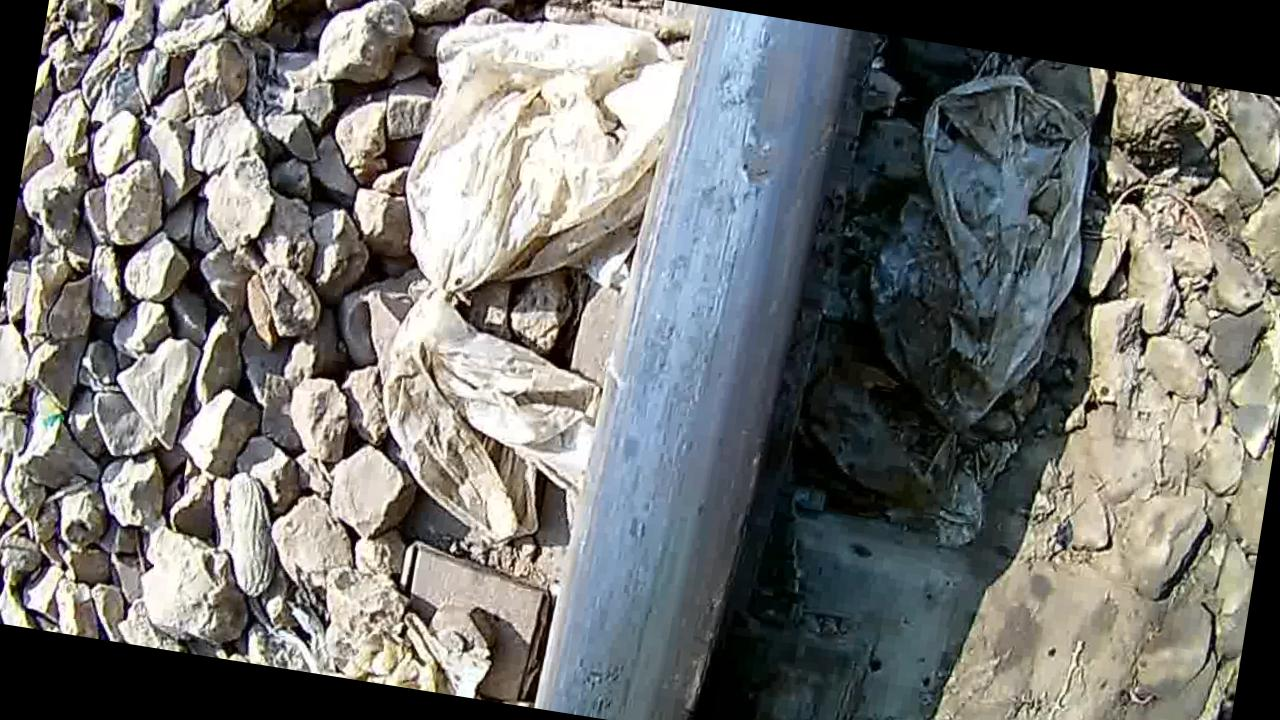bolt_missing: (666, 7, 858, 249)
